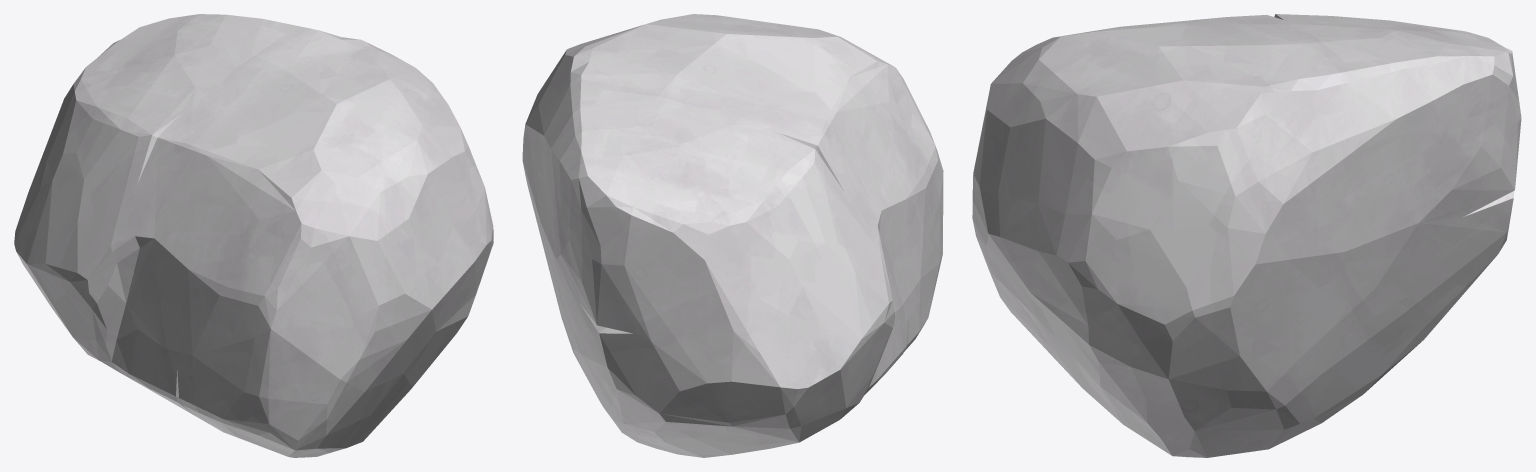
Rendered from rock-round-grey.glb.
3 views of the same model, side by side, from view 1: azimuth 30°, elevation 25°; view 2: azimuth 150°, elevation 25°; view 3: azimuth 270°, elevation 25° (orthographic). The views are drawn at different scales.
Parts seen in each view (by area): view 1: prop_0890541d; view 2: prop_0890541d; view 3: prop_0890541d.
Part boxes in pixels (x1,y1,x2,y2): prop_0890541d: (14, 14, 493, 457); prop_0890541d: (522, 14, 943, 457); prop_0890541d: (972, 14, 1521, 457).
Bounding box in the file's own units: 5.5 × 5.02 × 6.33.
Materials: 1 (1 with a texture image).
